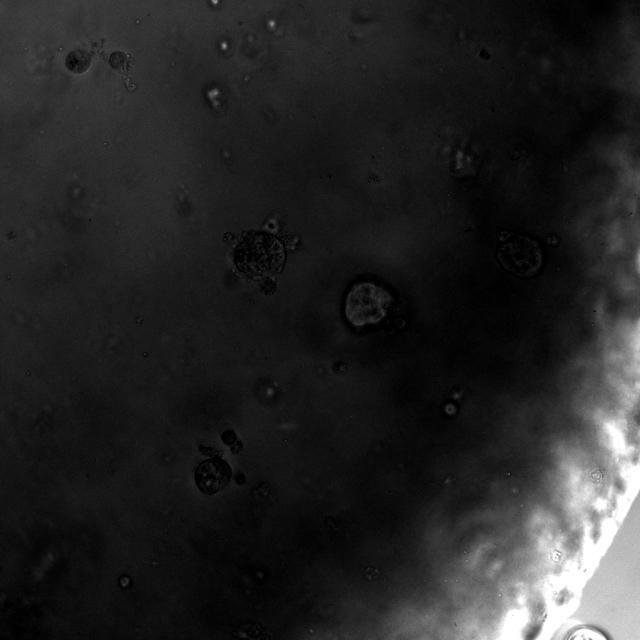organoid: (223, 217, 301, 295), (341, 276, 406, 334), (193, 445, 246, 494), (108, 51, 137, 91), (64, 48, 92, 74), (221, 429, 242, 454)
